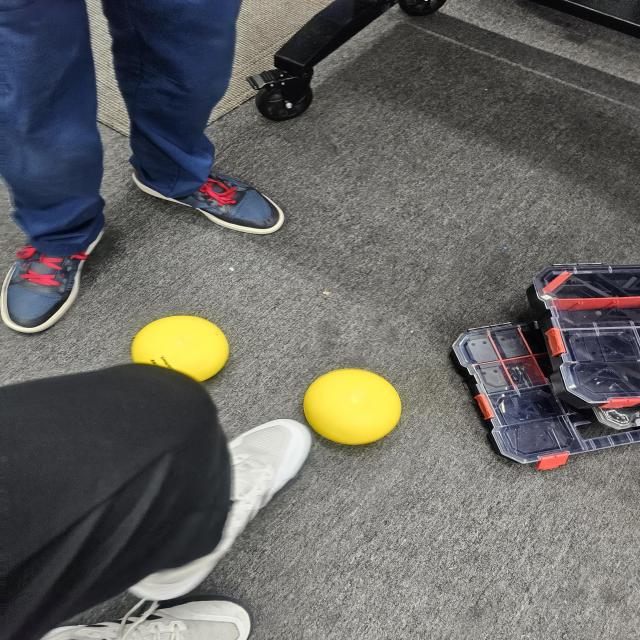Fuel: (292, 364, 419, 453), (126, 309, 237, 390)
